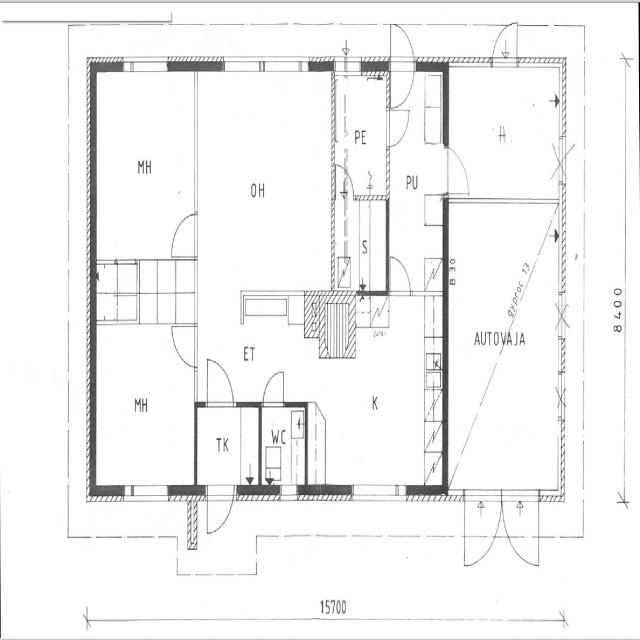door: (94, 65, 200, 295), (386, 19, 418, 118), (166, 202, 201, 264), (203, 479, 237, 541), (441, 140, 475, 201), (167, 316, 201, 374), (204, 354, 236, 411), (384, 102, 414, 154), (260, 363, 290, 414), (385, 247, 414, 298), (490, 21, 520, 70), (305, 397, 330, 432)
window: (215, 45, 312, 82), (346, 476, 415, 508), (117, 476, 176, 507), (118, 50, 174, 80), (447, 54, 495, 76), (334, 44, 364, 79), (273, 479, 303, 504)
zone: (444, 190, 564, 495), (196, 65, 334, 292), (313, 298, 447, 495), (92, 63, 198, 295), (92, 306, 197, 494), (445, 62, 562, 206), (387, 64, 449, 296), (333, 66, 388, 198), (195, 402, 262, 493), (260, 402, 308, 489), (347, 197, 388, 296)
